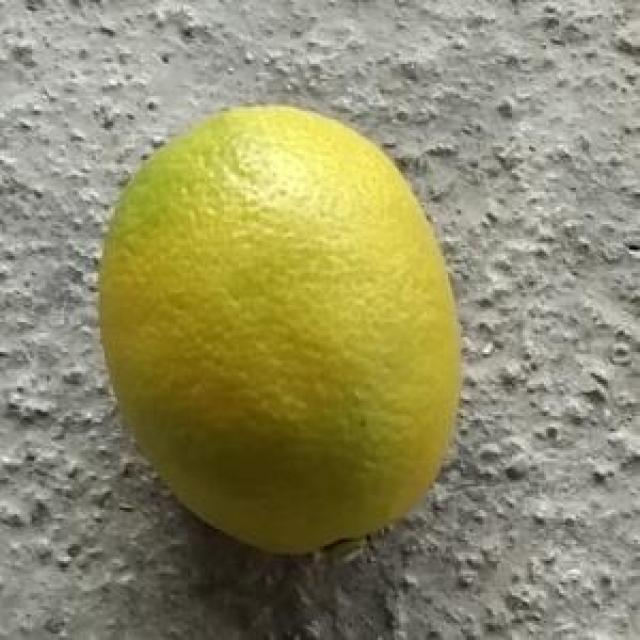lemon: (102, 100, 462, 550)
